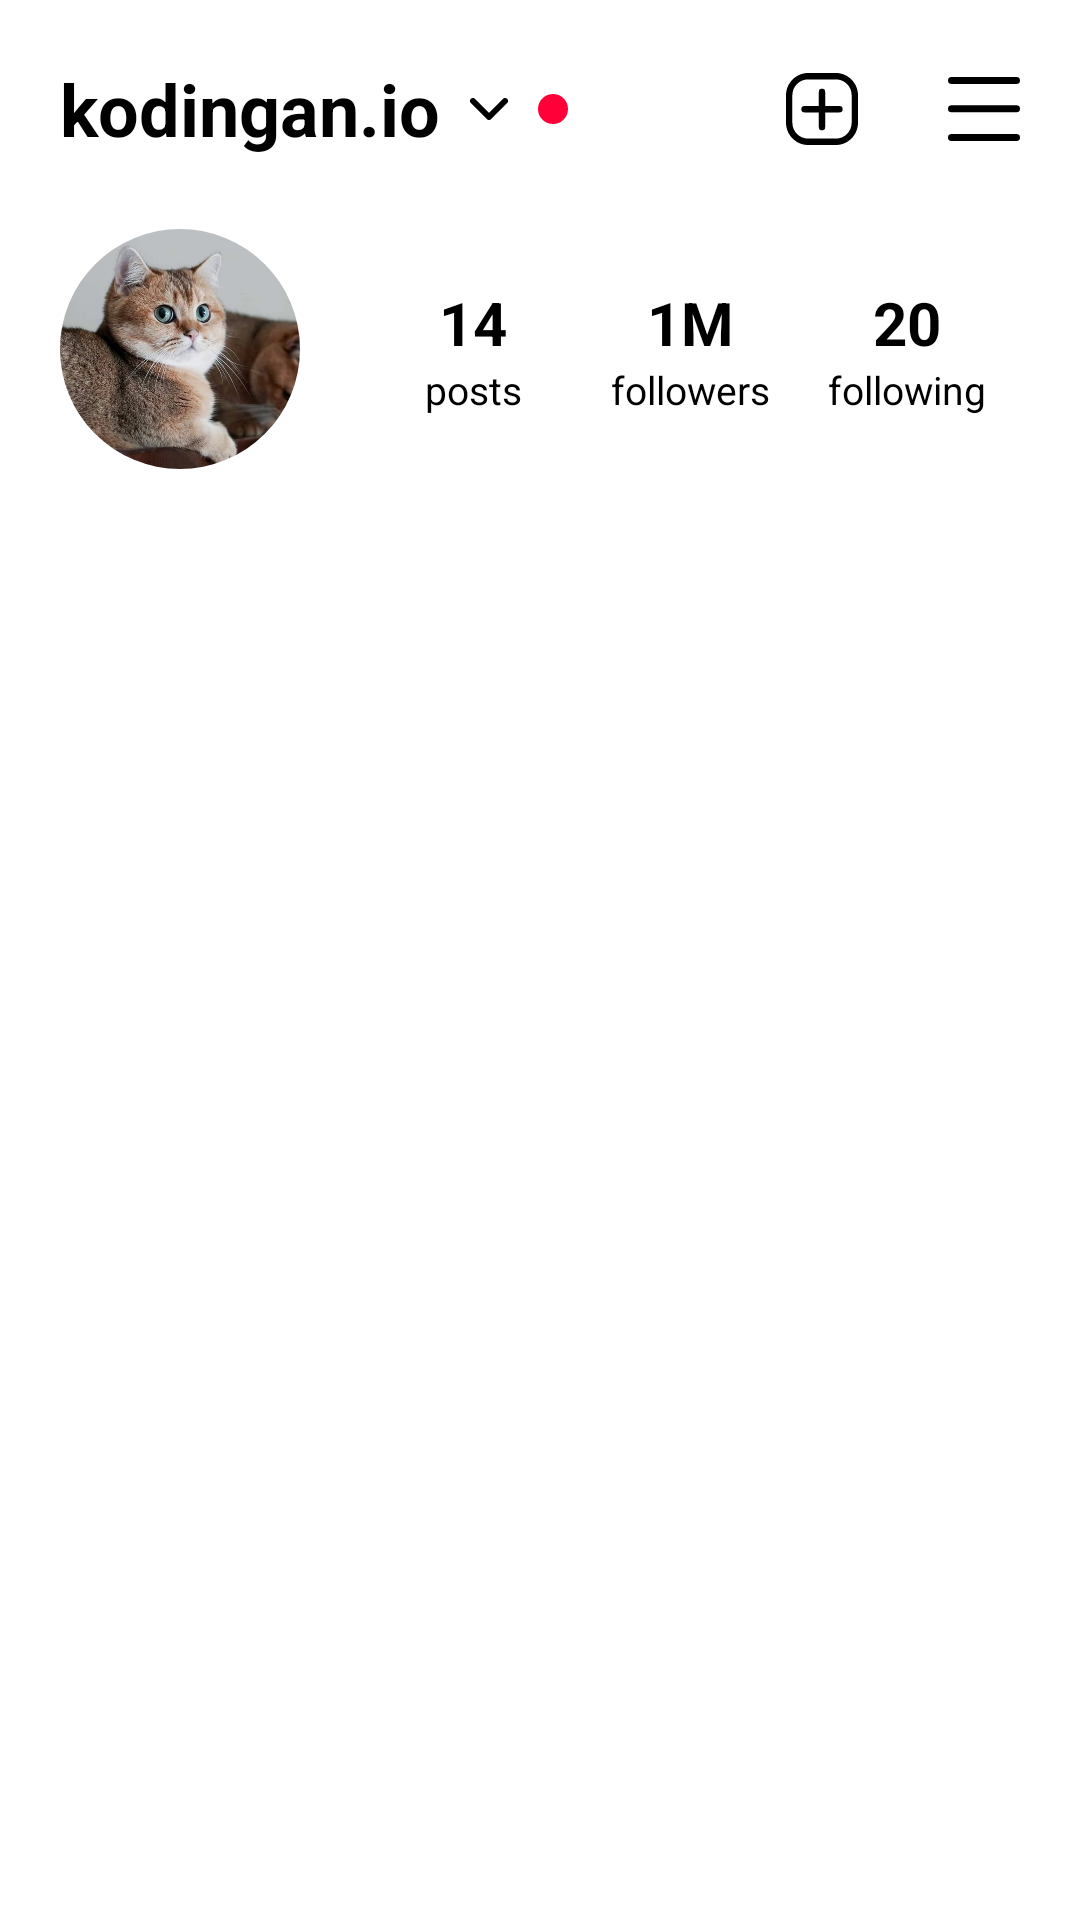

Point at icon controls on the screen. Image size 1080*1920, points as (x=x, y=y).
add post: (x=822, y=109)
cat: (x=180, y=349)
menu: (x=984, y=109)
